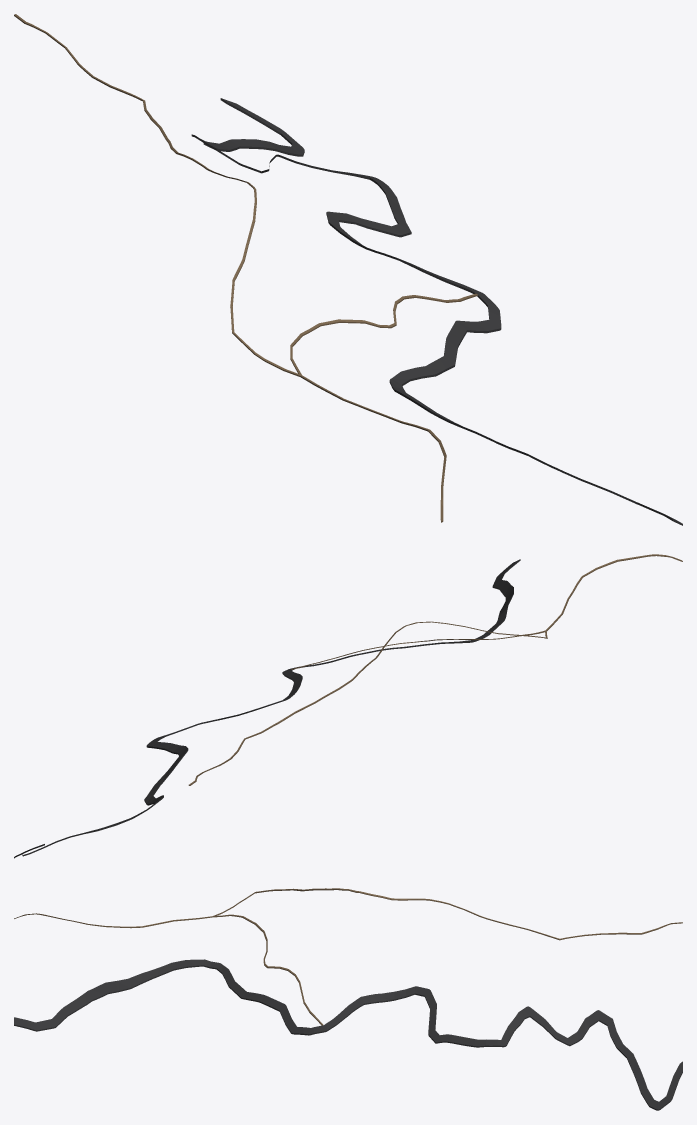
3 views of the same model, one above another, from view 1: azimuth 30°, elevation 25°; view 2: azimuth 150°, elevation 25°; view 3: azimuth 270°, elevation 25° (orthographic). The views are drawn at different scales.
Size of the model in its own units: 246 by 127 by 583.
